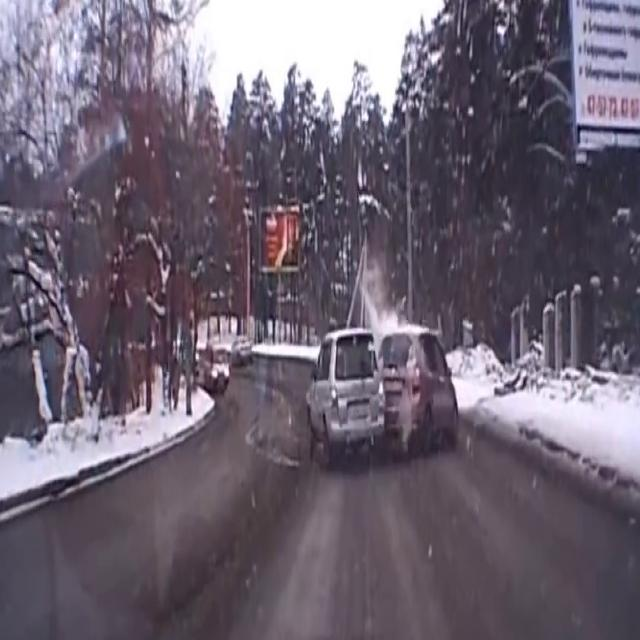accident: (298, 327, 457, 452)
